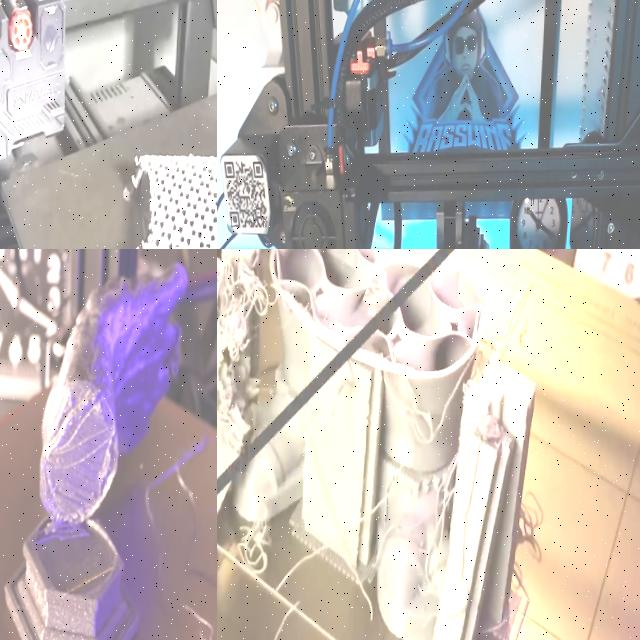spaghetti: (340, 327, 451, 640), (217, 249, 263, 468), (228, 503, 272, 580), (518, 494, 550, 566)
